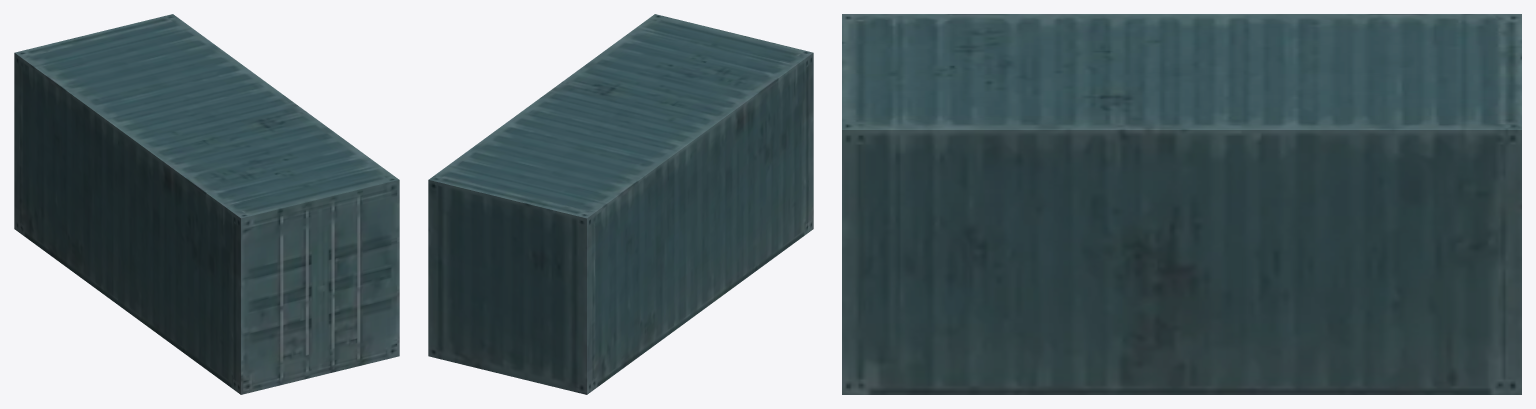
File: container_b.glb
3 renders of one model, left to right at view 1: azimuth 30°, elevation 25°; view 2: azimuth 150°, elevation 25°; view 3: azimuth 270°, elevation 25°, orthographic. The views are drawn at different scales.
Parts seen in each view (by area): view 1: Crate.002; view 2: Crate.002; view 3: Crate.002.
Part boxes in pixels (<box>): Crate.002: <box>14,14,399,394</box>; Crate.002: <box>428,14,813,394</box>; Crate.002: <box>842,14,1521,394</box>.
Size of the model in its own units: 2.43 by 2.59 by 6.02.
1 material, 1 textured.
